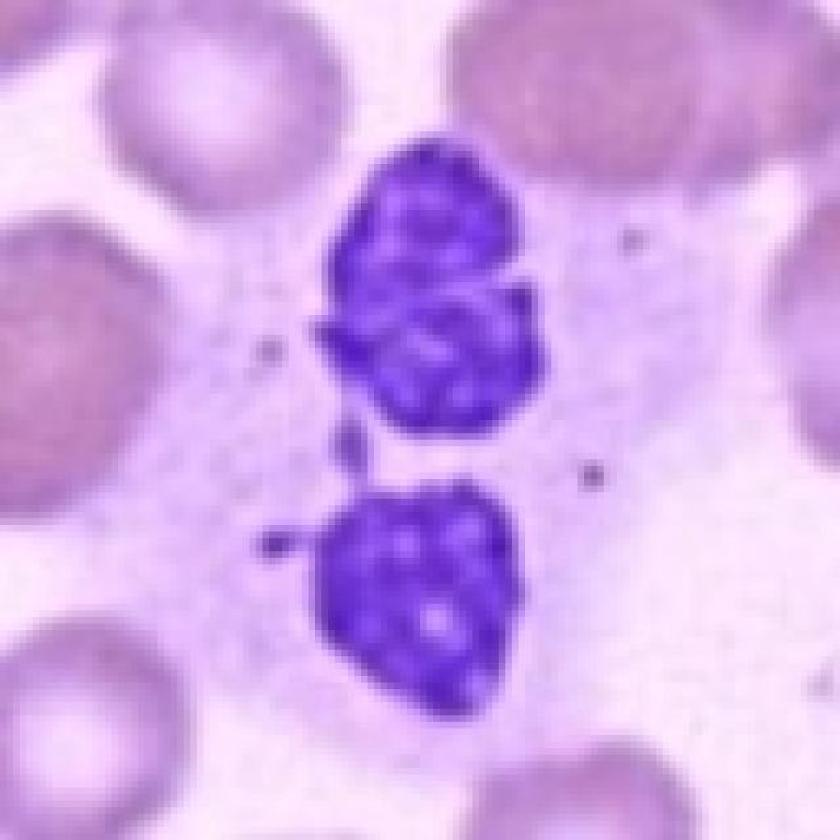neutrophil: (48, 109, 744, 789)
